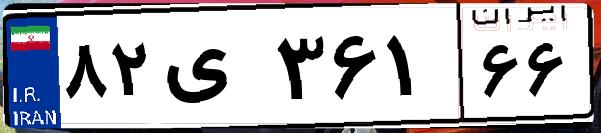1: (385, 28, 445, 110)
2: (110, 28, 158, 98)
3: (270, 28, 330, 110)
6: (330, 28, 385, 110), (475, 38, 525, 113), (525, 38, 570, 115)
8: (57, 26, 110, 100)
ی: (158, 20, 270, 120)
